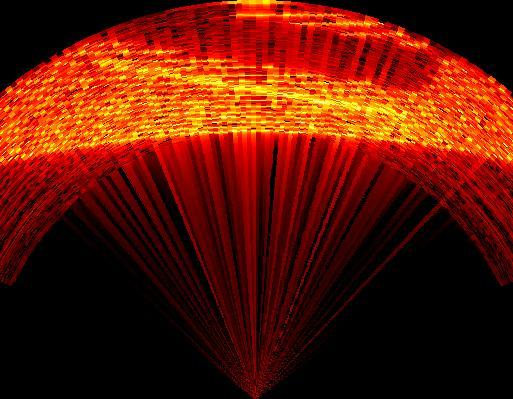pipe: (106, 8, 447, 91)
